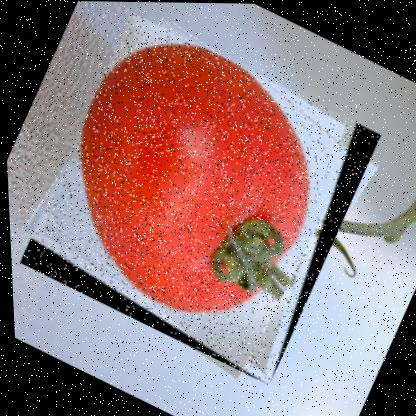tomato: (8, 8, 390, 385)
